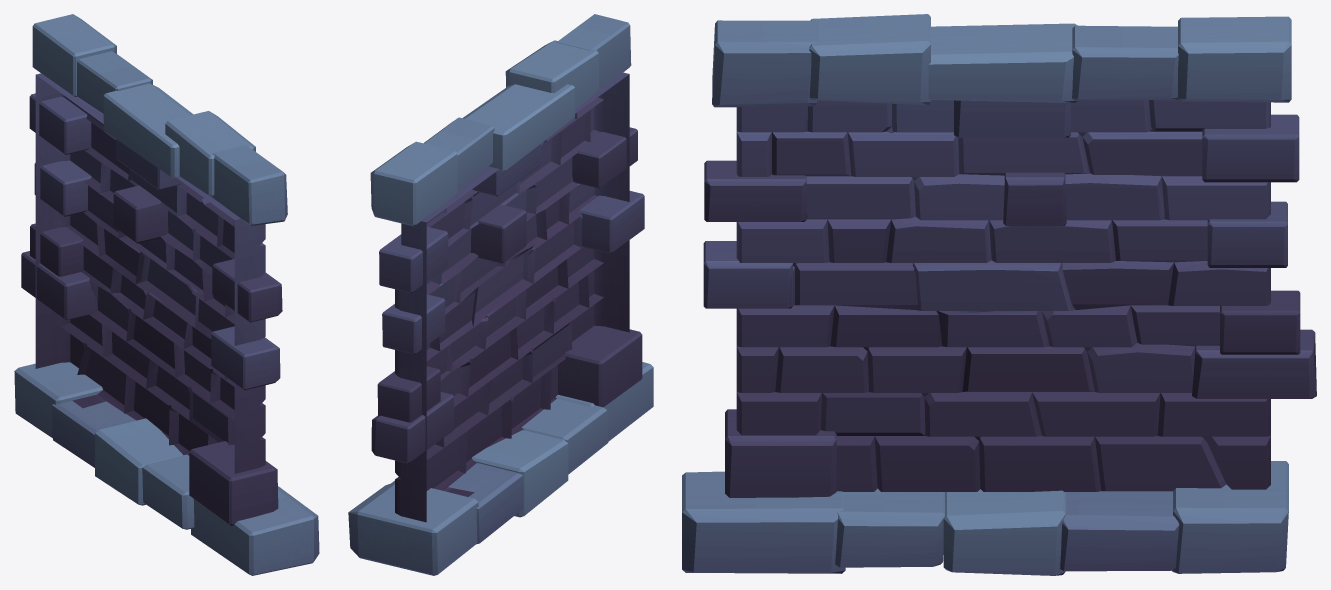
The model's file is WallChunk4.fbx.
3 renders of one model, left to right at view 1: azimuth 30°, elevation 25°; view 2: azimuth 150°, elevation 25°; view 3: azimuth 270°, elevation 25°, orthographic. The views are drawn at different scales.
Parts seen in each view (by area): view 1: pCube362; view 2: pCube362; view 3: pCube362.
Part boxes in pixels (bbox=[...]): pCube362: bbox=[14, 14, 319, 575]; pCube362: bbox=[348, 14, 653, 575]; pCube362: bbox=[682, 14, 1316, 575].
Size of the model in its own units: 1.51 by 5.95 by 6.53.
